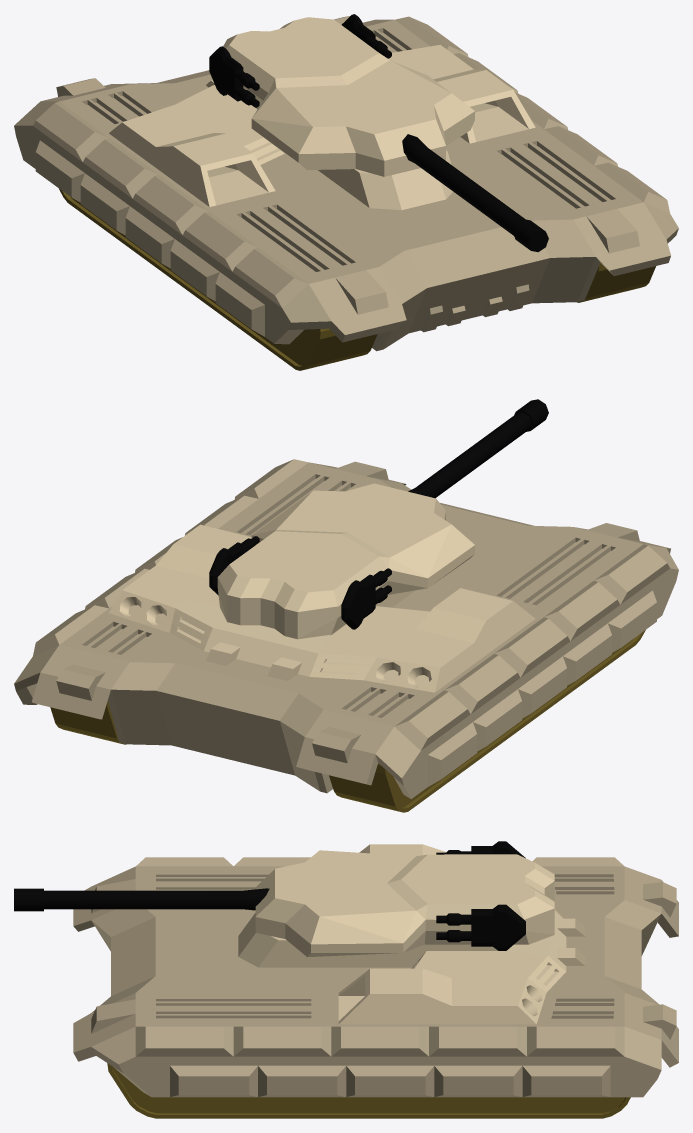
Rendered from TankOrig.obj.
The picture shows the model from 3 angles, top to bottom: view 1: azimuth 30°, elevation 25°; view 2: azimuth 150°, elevation 25°; view 3: azimuth 270°, elevation 25°; orthographic projection. The views are drawn at different scales.
Visible parts, largest first — view 1: Body, Turret, Cannon, MachineGun; view 2: Body, Turret, Cannon, MachineGun; view 3: Body, Turret, Cannon, MachineGun.
Part boxes in pixels (x1=…): Body: x1=14, y1=16, x2=678, y2=370; Turret: x1=223, y1=17, x2=474, y2=176; Cannon: x1=402, y1=134, x2=548, y2=252; MachineGun: x1=209, y1=14, x2=391, y2=107; Body: x1=14, y1=459, x2=678, y2=812; Turret: x1=217, y1=483, x2=474, y2=639; Cannon: x1=408, y1=399, x2=548, y2=498; MachineGun: x1=209, y1=536, x2=391, y2=629; Body: x1=73, y1=844, x2=678, y2=1118; Turret: x1=255, y1=850, x2=554, y2=957; Cannon: x1=14, y1=888, x2=269, y2=911; MachineGun: x1=436, y1=841, x2=525, y2=950.
Bounding box in the file's own units: 6.9 × 2.72 × 10.
